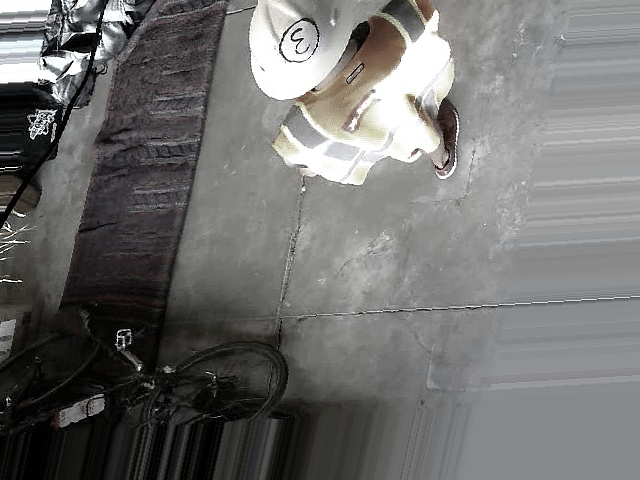three: (275, 17, 322, 62)
